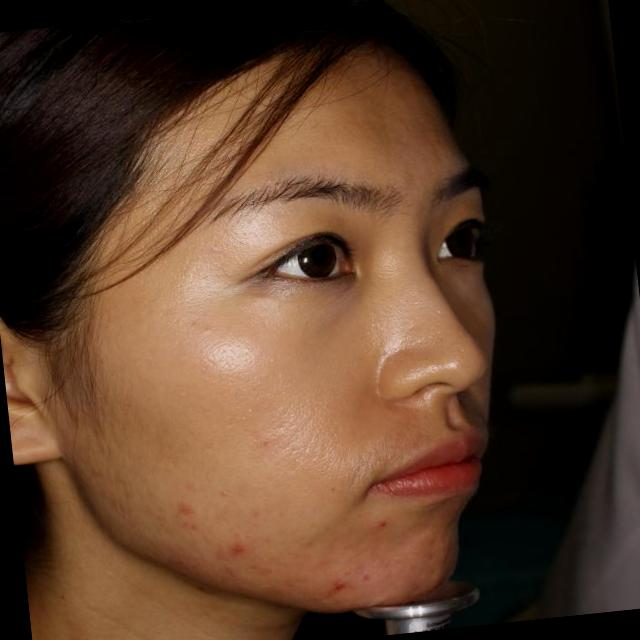acne: (361, 504, 402, 538), (322, 570, 359, 598), (226, 530, 245, 566), (352, 564, 379, 588), (168, 494, 192, 520), (252, 432, 276, 452)
